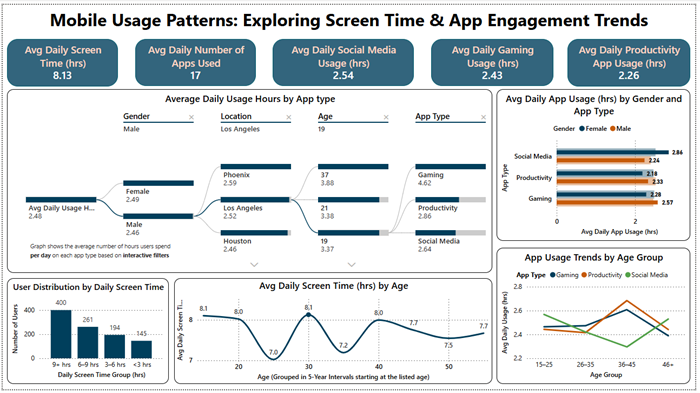

The page's visual inventory and layout, read from the dashboard file:
{"tool":"powerbi","page":{"name":"Page 1","canvas":[1280,720],"ordinal":0},"visuals":[{"type":"textbox","box":[0,0,1280,75.8],"z":0},{"type":"decompositionTreeVisual","title":"Average Daily Usage Hours by App type","fields":{"ExplainBy":["mobile_usage_behavioral_analysis.Gender","mobile_usage_behavioral_analysis.Location","mobile_usage_behavioral_analysis.Age","App_Usage_By_Type.App_Usage_Type"],"Analyze":["App_Usage_By_Type.Avg Daily Usage Hours by App Type"]},"box":[8.1,157.6,897.3,343.9],"z":0,"group":"g1"},{"type":"card","title":"Avg Daily Screen Time (hrs)","fields":{"Values":["Avg(mobile_usage_behavioral_analysis.Daily_Screen_Time_Hours)"]},"box":[8.1,63.6,205.1,89],"z":1000},{"type":"card","title":"Avg Daily Number of Apps Used","fields":{"Values":["Avg(mobile_usage_behavioral_analysis.Number_of_Apps_Used)"]},"box":[245.4,63.6,223,88.7],"z":2000},{"type":"card","title":"Avg Daily Social Media Usage (hrs)","fields":{"Values":["Avg(mobile_usage_behavioral_analysis.Social_Media_Usage_Hours)"]},"box":[499,63.6,260.6,88.7],"z":3000},{"type":"card","title":"Avg Daily Productivity App Usage (hrs)","fields":{"Values":["Avg(mobile_usage_behavioral_analysis.Productivity_App_Usage_Hours)"]},"box":[1044.2,63.6,226.6,89],"z":4000},{"type":"card","title":"Avg Daily Gaming Usage (hrs)","fields":{"Values":["Avg(mobile_usage_behavioral_analysis.Gaming_App_Usage_Hours)"]},"box":[791.6,63.6,226.6,88.7],"z":5000},{"type":"lineChart","title":"Avg Daily Screen Time (hrs) by Age","fields":{"Y":["Avg(mobile_usage_behavioral_analysis.Daily_Screen_Time_Hours)"],"Category":["mobile_usage_behavioral_analysis.Age (bins)"]},"box":[317,512.2,588.4,197.9],"z":6000},{"type":"clusteredColumnChart","title":"User Distribution by Daily Screen Time","fields":{"Category":["mobile_usage_behavioral_analysis.ScreenTimeGroup"],"Y":["CountNonNull(mobile_usage_behavioral_analysis.User_ID)"]},"box":[8.1,512.2,299.1,197.9],"z":7000},{"type":"clusteredBarChart","title":"Avg Daily App Usage (hrs) by Gender and App Type","fields":{"Category":["App_Usage_By_Type.App Type"],"Y":["Avg(App_Usage_By_Type.Usage_Hours)"],"Series":["GenderLookup.Gender"]},"box":[913.4,157.6,357.3,284.8],"z":8000},{"type":"lineChart","title":"App Usage Trends by Age Group","fields":{"Y":["Avg(App_Usage_By_Type.Usage_Hours)"],"Series":["App_Usage_By_Type.App Type"],"Category":["App_Usage_By_Type.Age_Group"]},"box":[913.4,454.9,357.3,255.2],"z":9000},{"type":"textbox","box":[45.9,436.5,281.6,61.4],"z":11000,"group":"g1"},{"type":"group","id":"g1","title":"Group 1","box":[8.1,157.6,897.3,343.9],"z":11001}]}

Visuals, with their boxes in screenshot pixels (x1, y1, x2, y2), scaled from the page's 1280x720 canvas onto the 700x393 screenshot:
textbox: (x1=0, y1=0, x2=699, y2=41)
"Average Daily Usage Hours by App type" decompositionTreeVisual: (x1=4, y1=86, x2=495, y2=274)
"Avg Daily Screen Time (hrs)" card: (x1=4, y1=35, x2=117, y2=83)
"Avg Daily Number of Apps Used" card: (x1=134, y1=35, x2=256, y2=83)
"Avg Daily Social Media Usage (hrs)" card: (x1=273, y1=35, x2=415, y2=83)
"Avg Daily Productivity App Usage (hrs)" card: (x1=571, y1=35, x2=695, y2=83)
"Avg Daily Gaming Usage (hrs)" card: (x1=433, y1=35, x2=557, y2=83)
"Avg Daily Screen Time (hrs) by Age" lineChart: (x1=173, y1=280, x2=495, y2=388)
"User Distribution by Daily Screen Time" clusteredColumnChart: (x1=4, y1=280, x2=168, y2=388)
"Avg Daily App Usage (hrs) by Gender and App Type" clusteredBarChart: (x1=500, y1=86, x2=695, y2=241)
"App Usage Trends by Age Group" lineChart: (x1=500, y1=248, x2=695, y2=388)
textbox: (x1=25, y1=238, x2=179, y2=272)
"Group 1" group: (x1=4, y1=86, x2=495, y2=274)
